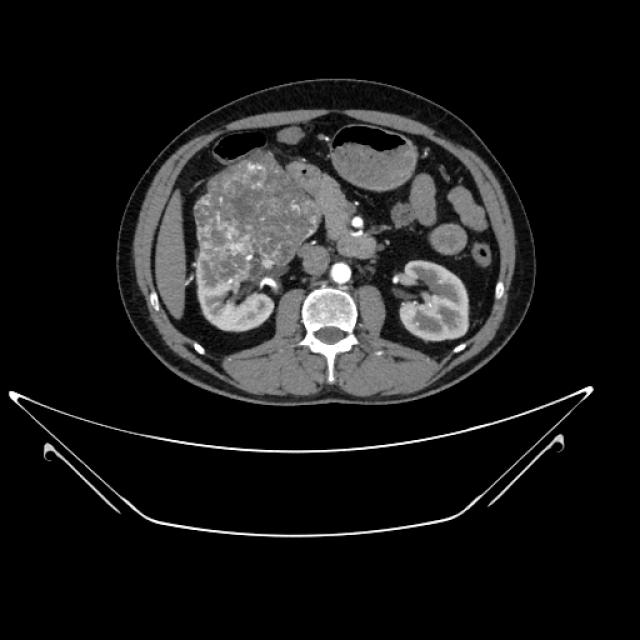Tumor: (195, 131, 317, 315)
